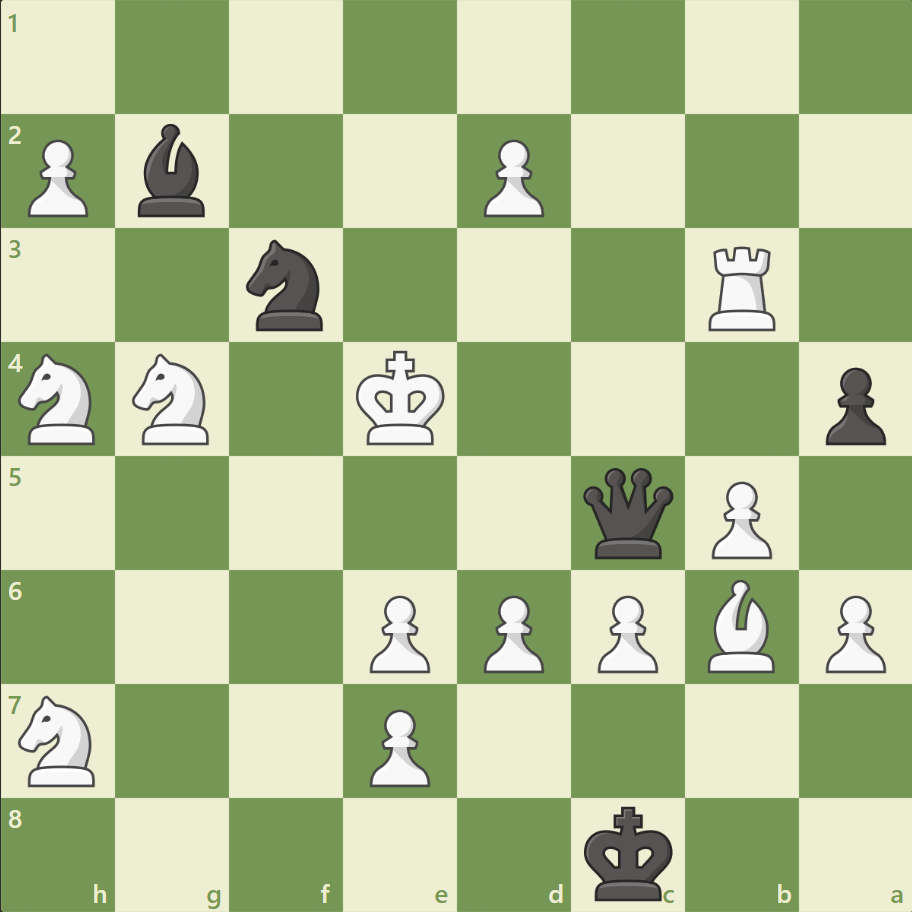B: (698, 574, 782, 676)
K: (351, 344, 451, 452)
N: (124, 348, 222, 450), (11, 688, 108, 791), (11, 348, 108, 450)
P: (474, 586, 549, 677), (701, 473, 776, 564), (474, 132, 549, 223), (20, 132, 95, 223), (361, 700, 435, 791), (815, 586, 889, 677), (588, 586, 662, 677), (361, 586, 435, 677)
R: (700, 239, 783, 336)
b: (131, 120, 215, 222)
k: (579, 798, 679, 906)
n: (238, 234, 335, 337)
p: (815, 359, 889, 450)
q: (578, 463, 677, 562)
